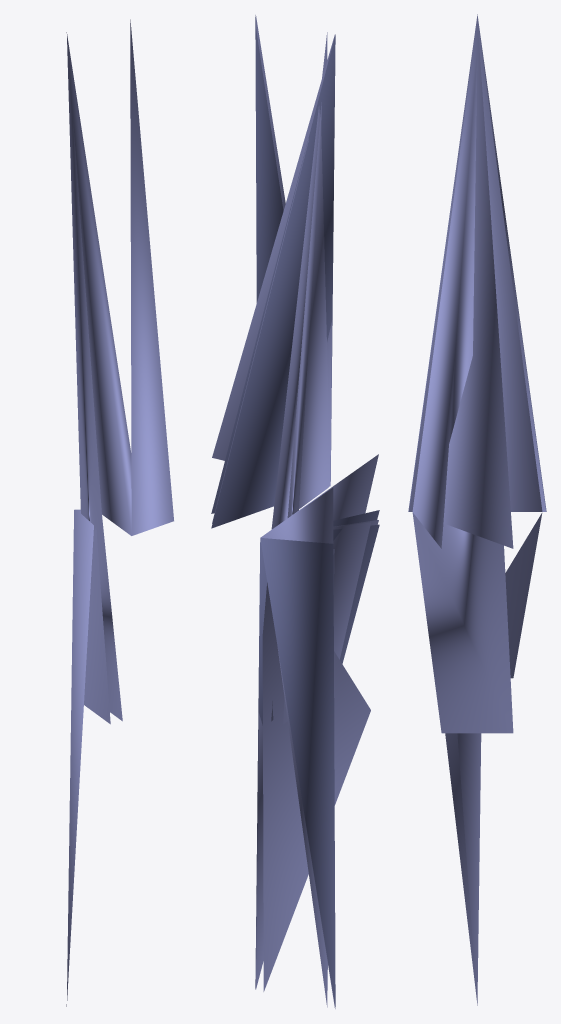
File: equip_legs_mithril_platelegs.glb
3 renders of one model, left to right at view 1: azimuth 30°, elevation 25°; view 2: azimuth 150°, elevation 25°; view 3: azimuth 270°, elevation 25°, orthographic.
Visible parts, largest first — view 1: equip_legs_mithril_platelegs; view 2: equip_legs_mithril_platelegs; view 3: equip_legs_mithril_platelegs.
Part boxes in pixels (x1=…): equip_legs_mithril_platelegs: x1=66, y1=19, x2=173, y2=1006; equip_legs_mithril_platelegs: x1=211, y1=15, x2=379, y2=1008; equip_legs_mithril_platelegs: x1=408, y1=14, x2=546, y2=1005.
Bounding box in the file's own units: 0.262 × 2 × 0.262.
